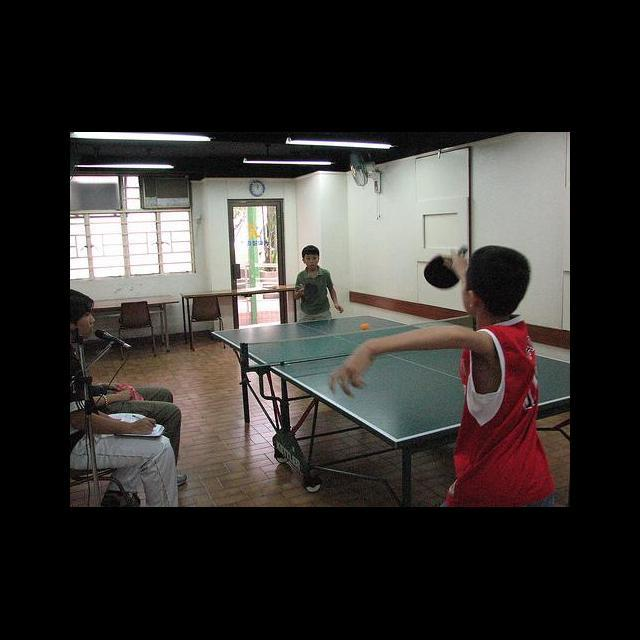ping-pong-ball: (360, 322, 370, 330)
